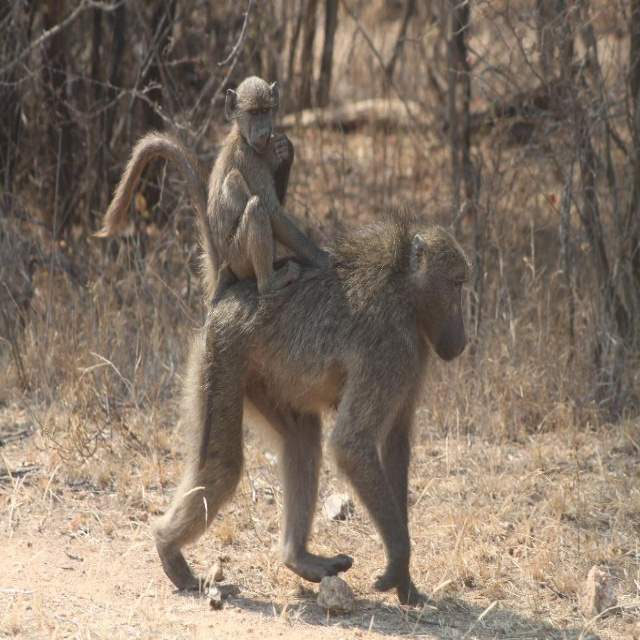Monkey: (86, 199, 473, 606), (89, 76, 340, 294)
